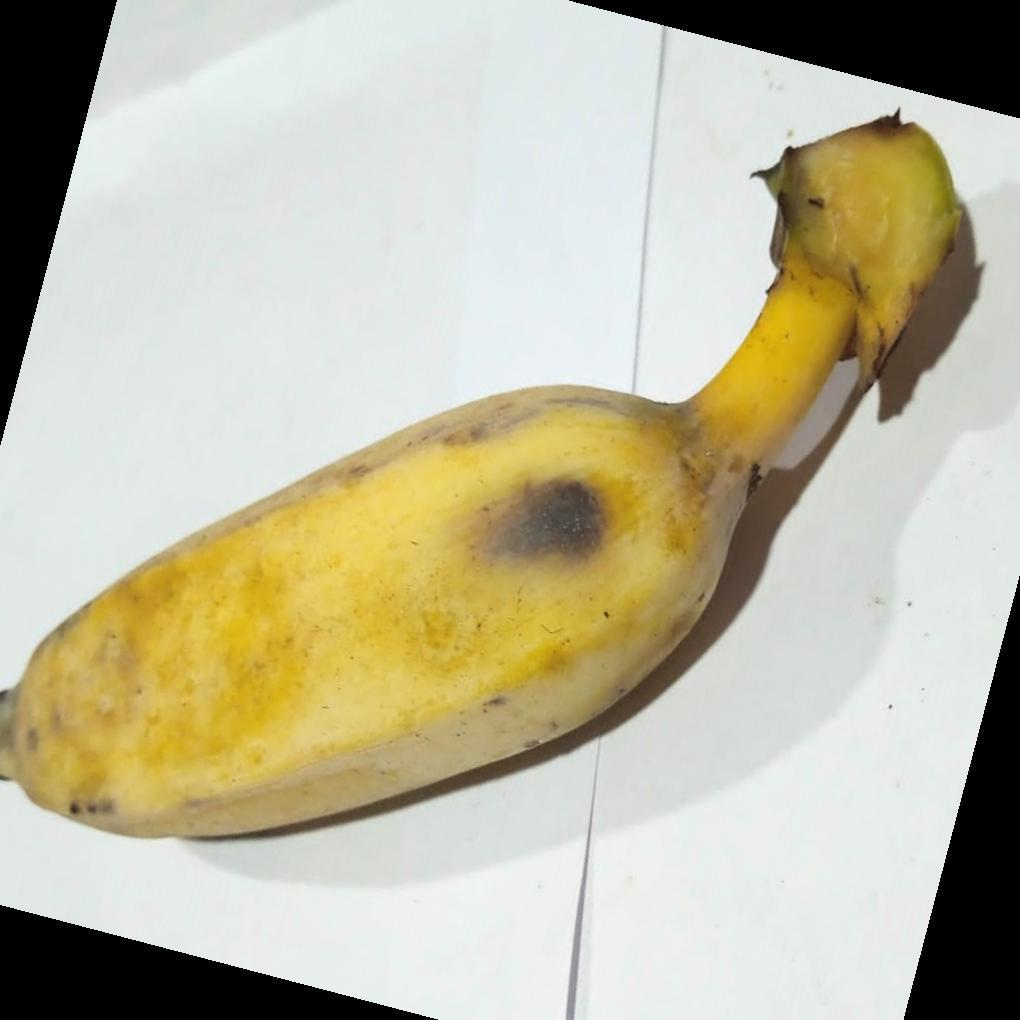Banana Ripe: (2, 141, 937, 1020)
